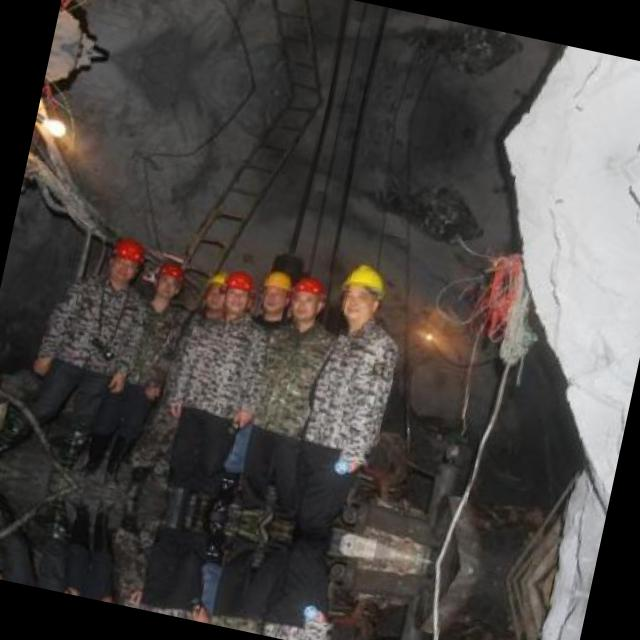helmet: (329, 254, 392, 331), (251, 259, 298, 318), (102, 233, 149, 286), (144, 254, 188, 305), (286, 272, 328, 324), (213, 264, 254, 314), (201, 268, 231, 316)
